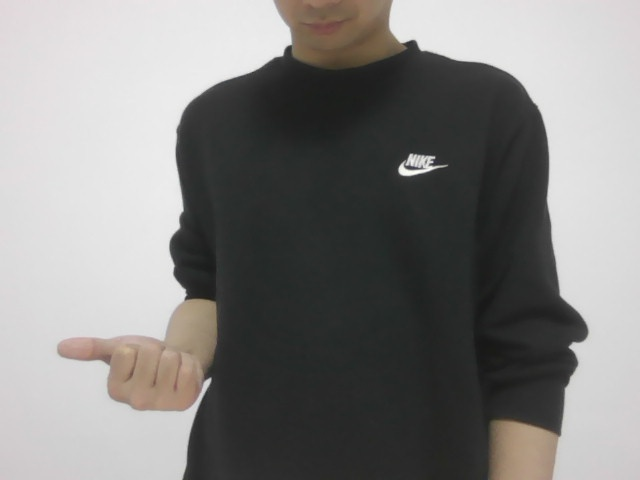have: (51, 326, 208, 415)
